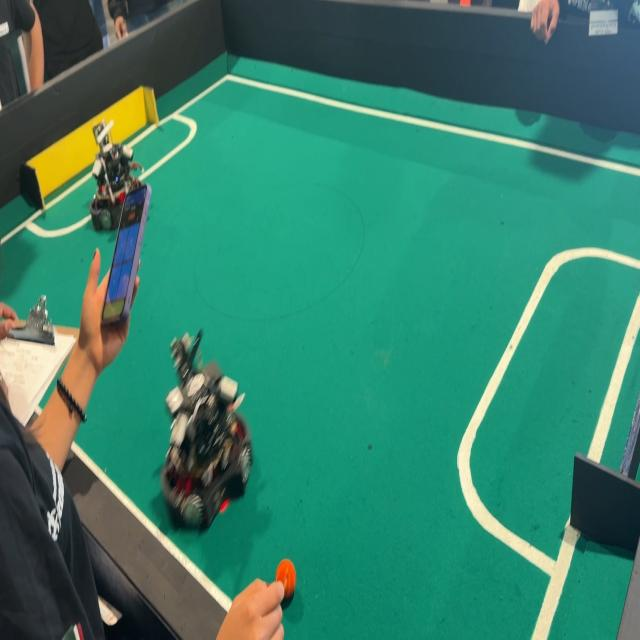Robot: (136, 317, 259, 541), (80, 105, 151, 239)
pelota: (276, 557, 294, 595)
